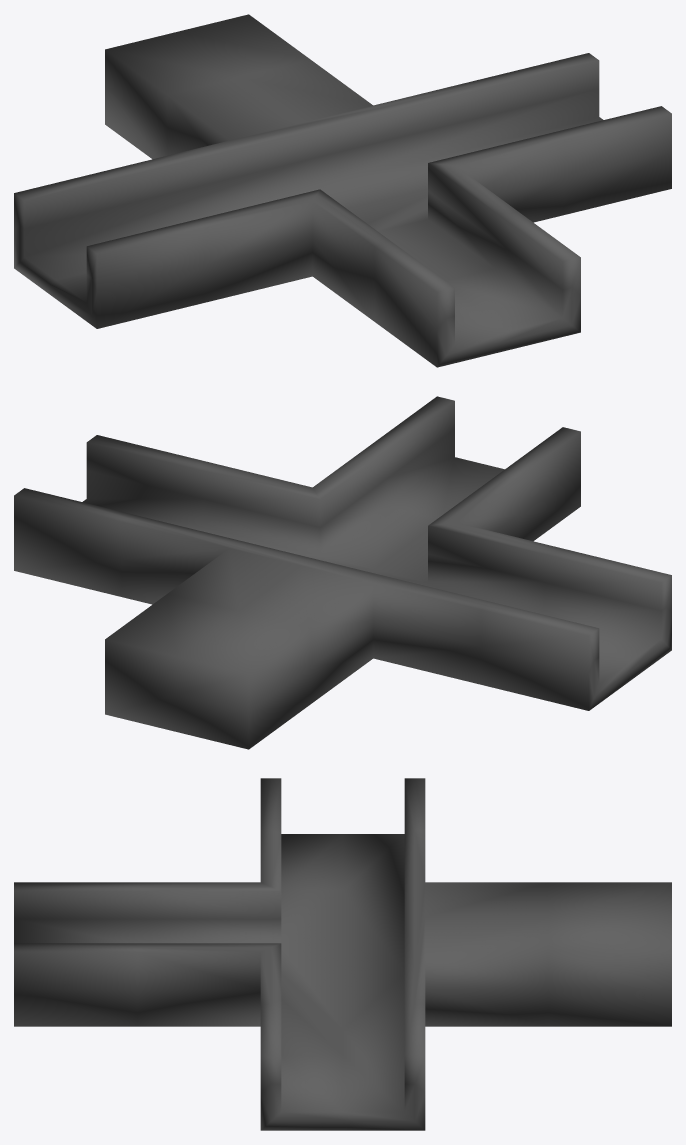
3 renders of one model, top to bottom at view 1: azimuth 30°, elevation 25°; view 2: azimuth 150°, elevation 25°; view 3: azimuth 270°, elevation 25°, orthographic.
Visible parts, largest first — view 1: defaultobject; view 2: defaultobject; view 3: defaultobject.
Part boxes in pixels (left/top/right/bottom): defaultobject: left=14, top=14, right=671, bottom=367; defaultobject: left=14, top=396, right=671, bottom=749; defaultobject: left=14, top=778, right=671, bottom=1130.
Bounding box in the file's own units: 1 × 0.125 × 1.
1 material, 1 textured.
